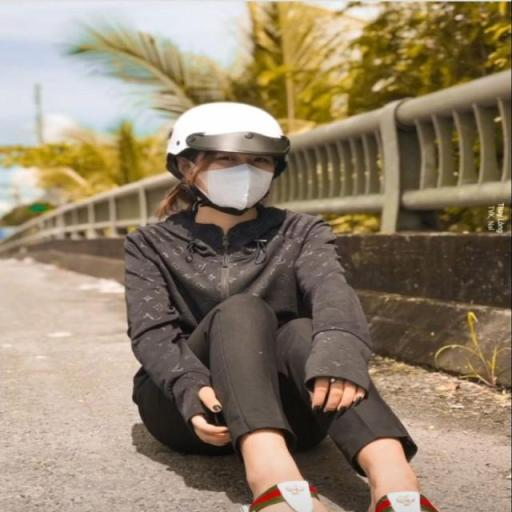with helmet: (158, 94, 296, 165)
